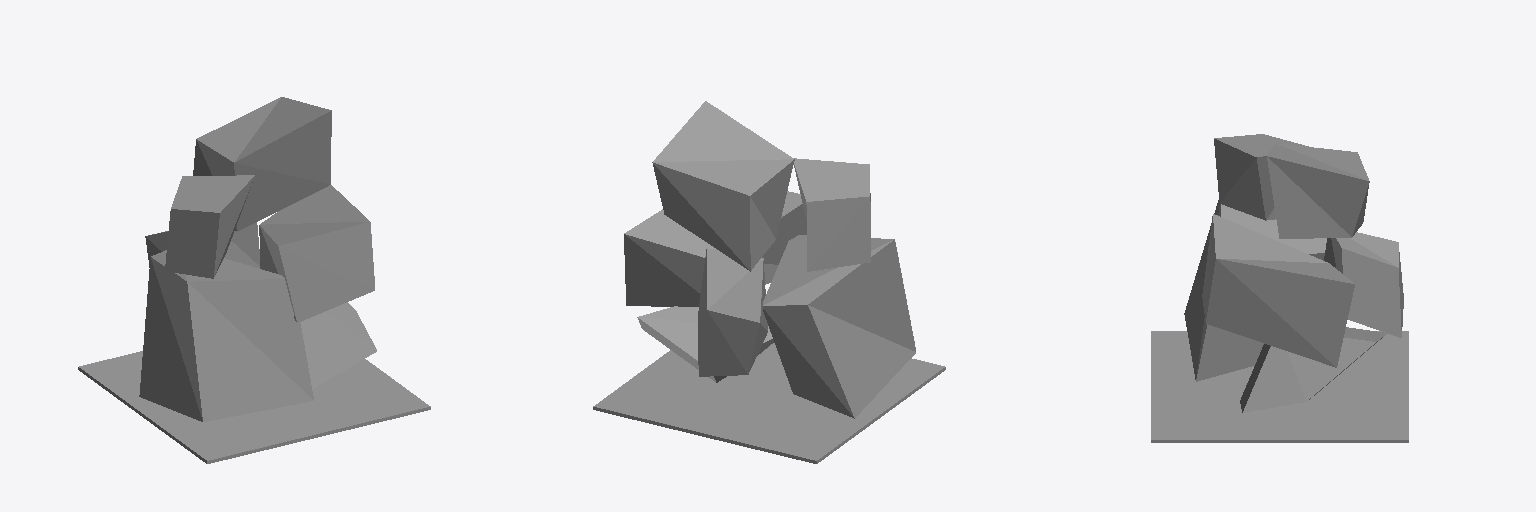
File: pather_NO_6.obj
The picture shows the model from 3 angles: view 1: azimuth 30°, elevation 25°; view 2: azimuth 150°, elevation 25°; view 3: azimuth 270°, elevation 25°; orthographic projection.
Parts seen in each view (by area): view 1: Cube.004_Cube, Cube.006_Cube.005, Cube.002, Cube.003, Cube_Cube.004, Cube.001, Cube.005_Cube.006; view 2: Cube.004_Cube, Cube.006_Cube.005, Cube.002, Cube.003, Cube.005_Cube.006, Cube_Cube.004, Cube.001; view 3: Cube.006_Cube.005, Cube.003, Cube.002, Cube.005_Cube.006, Cube.004_Cube, Cube.001, Cube_Cube.004.
Boxes of the visible parts, box(x1,y1,x2,y2) form: Cube.004_Cube: box(139, 250, 313, 421); Cube.006_Cube.005: box(78, 351, 430, 463); Cube.002: box(193, 97, 331, 231); Cube.003: box(259, 185, 374, 322); Cube_Cube.004: box(165, 175, 254, 278); Cube.001: box(300, 302, 376, 389); Cube.005_Cube.006: box(145, 222, 259, 268); Cube.004_Cube: box(763, 235, 915, 418); Cube.006_Cube.005: box(593, 343, 945, 463); Cube.002: box(652, 101, 794, 271); Cube.003: box(624, 191, 806, 306); Cube.005_Cube.006: box(698, 248, 767, 376); Cube_Cube.004: box(794, 158, 870, 271); Cube.001: box(637, 306, 773, 382); Cube.006_Cube.005: box(1151, 331, 1408, 442); Cube.003: box(1202, 214, 1354, 367); Cube.002: box(1267, 143, 1369, 238); Cube.005_Cube.006: box(1324, 232, 1403, 337); Cube.004_Cube: box(1184, 200, 1326, 381); Cube.001: box(1240, 327, 1387, 412); Cube_Cube.004: box(1214, 134, 1308, 220).
Bounding box in the file's own units: 0.5866 × 0.6614 × 0.5785.